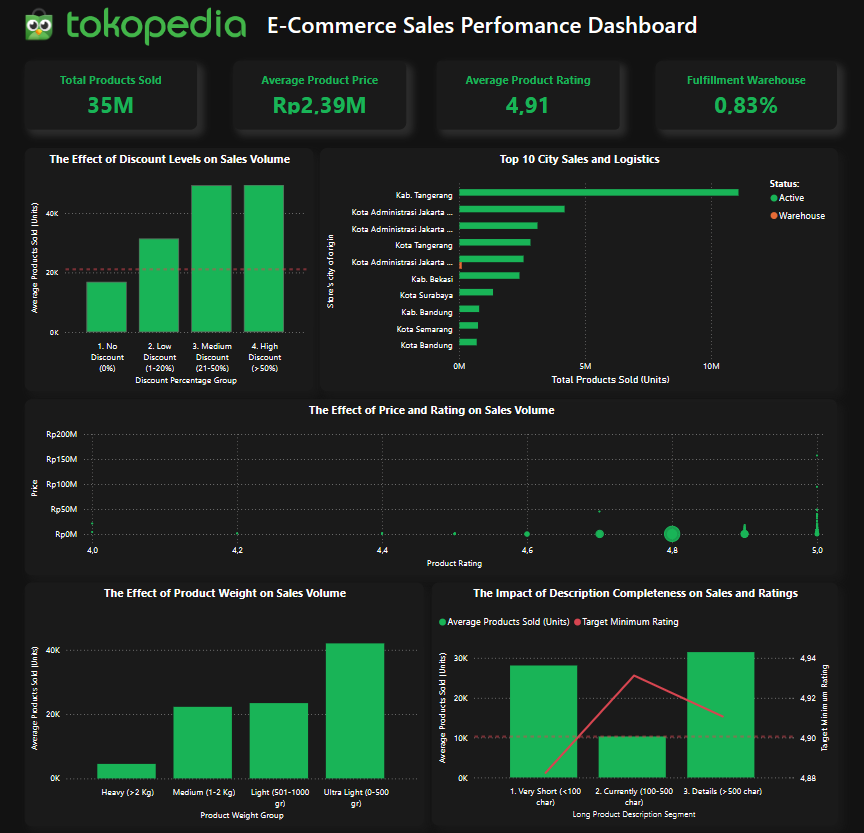

Layout of this report page (visuals, bound fields, positions):
{"tool":"powerbi","page":{"name":"Page 1","canvas":[1250,1200],"ordinal":0},"visuals":[{"type":"cardVisual","fields":{"Data":["Sum(Sheet1.sold_count)"]},"box":[43,91,261,98],"z":0},{"type":"cardVisual","fields":{"Data":["Avg(Sheet1.price)"]},"box":[340.9,91.3,247.5,97.5],"z":1000},{"type":"cardVisual","fields":{"Data":["Avg(Sheet1.rating)"]},"box":[632,91.3,261.2,97.5],"z":2000},{"type":"cardVisual","fields":{"Data":["Sheet1.Fulfillment Rate"]},"box":[928,91,276,98],"z":3000},{"type":"image","box":[98.7,13.6,264.2,56.4],"z":4000},{"type":"image","box":[17.6,9.1,90.4,60.9],"z":5000},{"type":"textbox","box":[378.7,11.3,636.7,56.4],"z":6000},{"type":"clusteredColumnChart","title":"The Effect of Discount Levels on Sales Volume","fields":{"Category":["Sheet1.discount_tier"],"Y":["Avg(Sheet1.sold_count)"]},"box":[43,216,396,347],"z":7000},{"type":"scatterChart","title":"The Effect of Price and Rating on Sales Volume","fields":{"X":["Sum(Sheet1.rating)"],"Y":["Sum(Sheet1.price)"],"Size":["Sum(Sheet1.sold_count)"],"Category":["Sheet1.id"]},"box":[43,575,1161,251],"z":8000},{"type":"clusteredBarChart","title":"Top 10 City Sales and Logistics","fields":{"Category":["Sheet1.shop_city"],"Y":["Sum(Sheet1.sold_count)"],"Series":["Sheet1.status"]},"box":[448,216,757,347],"z":9000},{"type":"clusteredColumnChart","title":"The Effect of Product Weight on Sales Volume","fields":{"Category":["Sheet1.weight_tier"],"Y":["Avg(Sheet1.sold_count)"]},"box":[43.1,836.9,570,347.8],"z":10000},{"type":"lineClusteredColumnComboChart","title":"The Impact of Description Completeness on Sales and Ratings","fields":{"Category":["Sheet1.description_segment"],"Y":["Avg(Sheet1.sold_count)"],"Y2":["Avg(Sheet1.rating)"]},"box":[624.9,836.6,580,347.1],"z":11000},{"type":"slicer","fields":{"Values":["Sheet1.category_name"]},"box":[1019,9,185,66],"z":12000}]}

Visuals, with their boxes in screenshot pixels (x1, y1, x2, y2), scaled from the page's 1250x1200 canvas onto the 864x833 screenshot:
cardVisual - Sum(Sheet1.sold_count): [x1=30, y1=63, x2=210, y2=131]
cardVisual - Avg(Sheet1.price): [x1=236, y1=63, x2=407, y2=131]
cardVisual - Avg(Sheet1.rating): [x1=437, y1=63, x2=617, y2=131]
cardVisual - Sheet1.Fulfillment Rate: [x1=641, y1=63, x2=832, y2=131]
image: [x1=68, y1=9, x2=251, y2=49]
image: [x1=12, y1=6, x2=75, y2=49]
textbox: [x1=262, y1=8, x2=702, y2=47]
"The Effect of Discount Levels on Sales Volume" clusteredColumnChart: [x1=30, y1=150, x2=303, y2=391]
"The Effect of Price and Rating on Sales Volume" scatterChart: [x1=30, y1=399, x2=832, y2=573]
"Top 10 City Sales and Logistics" clusteredBarChart: [x1=310, y1=150, x2=833, y2=391]
"The Effect of Product Weight on Sales Volume" clusteredColumnChart: [x1=30, y1=581, x2=424, y2=822]
"The Impact of Description Completeness on Sales and Ratings" lineClusteredColumnComboChart: [x1=432, y1=581, x2=833, y2=822]
slicer - Sheet1.category_name: [x1=704, y1=6, x2=832, y2=52]
